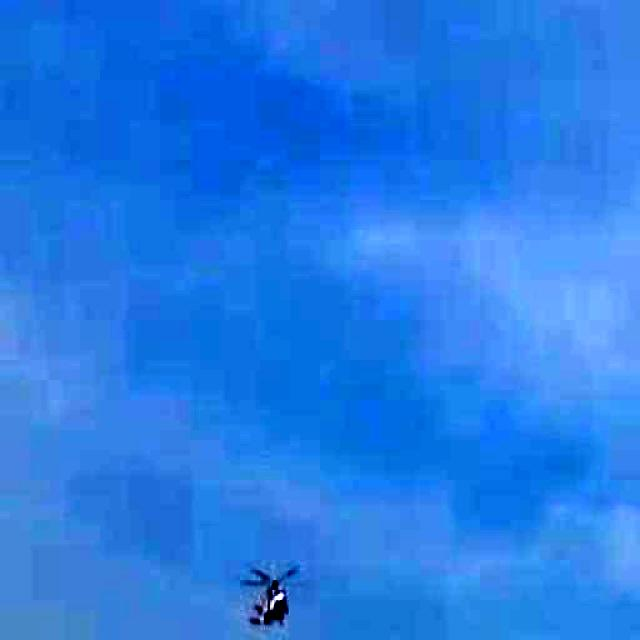drone: (228, 555, 314, 631)
